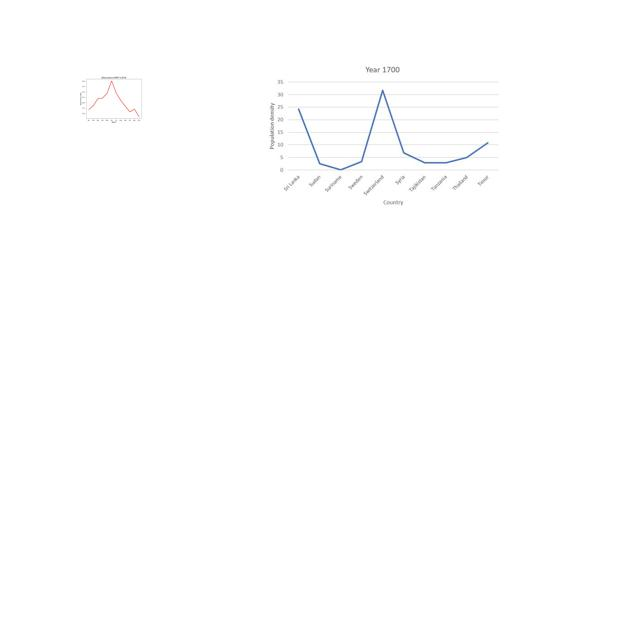Graph: (267, 64, 500, 206), (76, 73, 150, 124)
